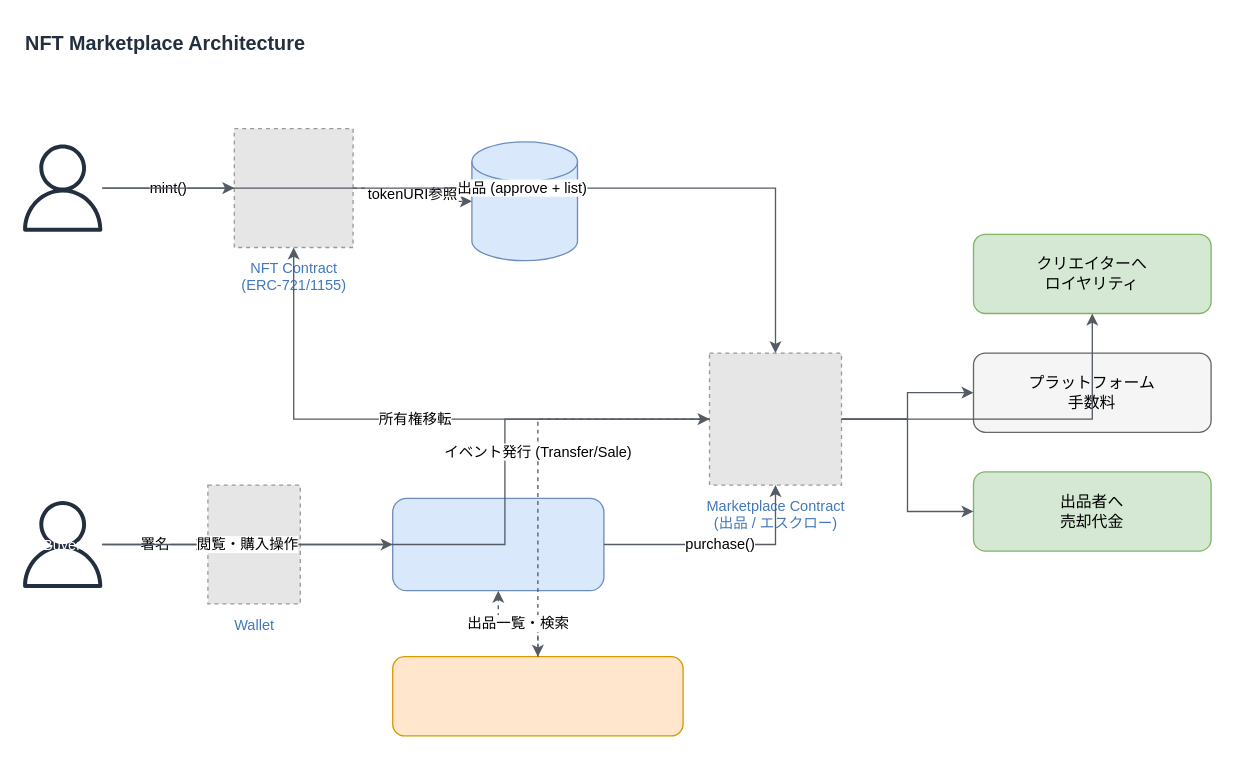
Image size: 1234x759. Some labels were removed from this diagram. Grey dashed boxes stand in for pictures. The shapes that lost their labels are listed below. From the top down, each one's box as (x1, y1, x2, y2) in pixels, then its label:
(22, 141, 102, 234): Creator
(471, 141, 578, 261): IPFS / Arweave (メタデータ/画像)
(391, 497, 604, 591): Frontend (マーケットプレイスUI)
(391, 655, 683, 736): Indexer (出品/取引履歴)
